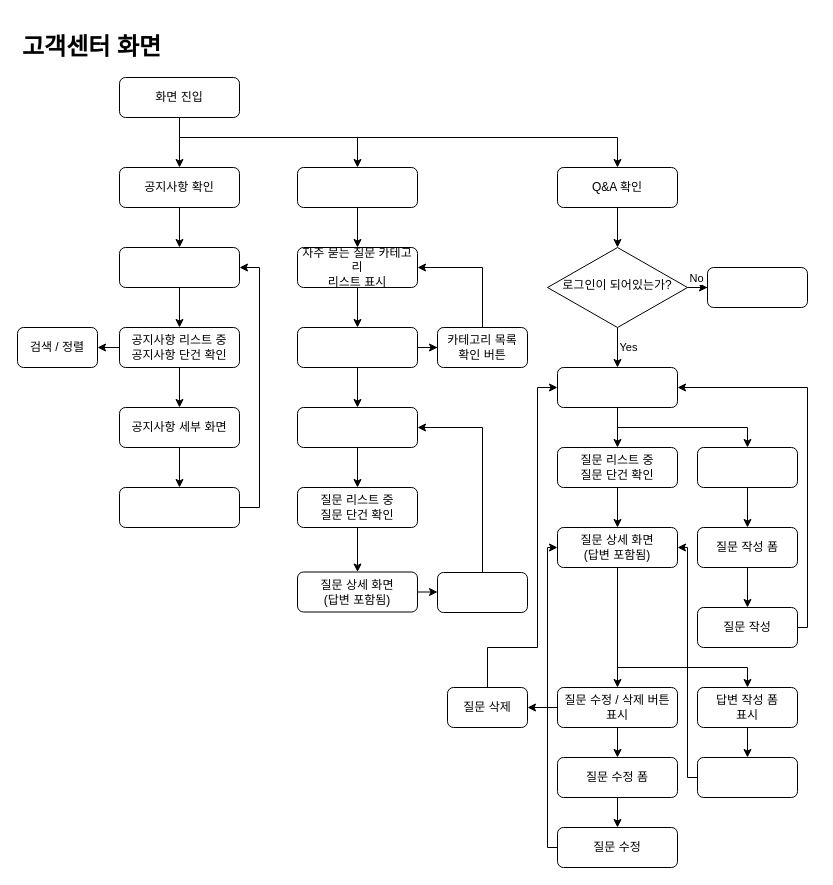
The diagram is 833 pixels wide and 885 high, and some of its shapes have lost their labels. The shapes that lost their labels are listed below. From the top down, each one's centre as x and y in pixels, then its label:
At (x=357, y=187): "FAQ 확인".
At (x=179, y=267): "공지사항 리스트 표시".
At (x=757, y=287): "로그인 페이지 이동".
At (x=357, y=347): "카테고리 리스트 중 카테고리 단건 확인".
At (x=617, y=387): "사용자가 작성한 질문 리스트 표시".
At (x=357, y=427): "카테고리에 포함된 질문 리스트 표시".
At (x=747, y=467): "질문 작성 버튼".
At (x=179, y=507): "글 목록 확인 버튼".
At (x=482, y=592): "질문 목록 확인 버튼".
At (x=747, y=777): "답변 작성".
